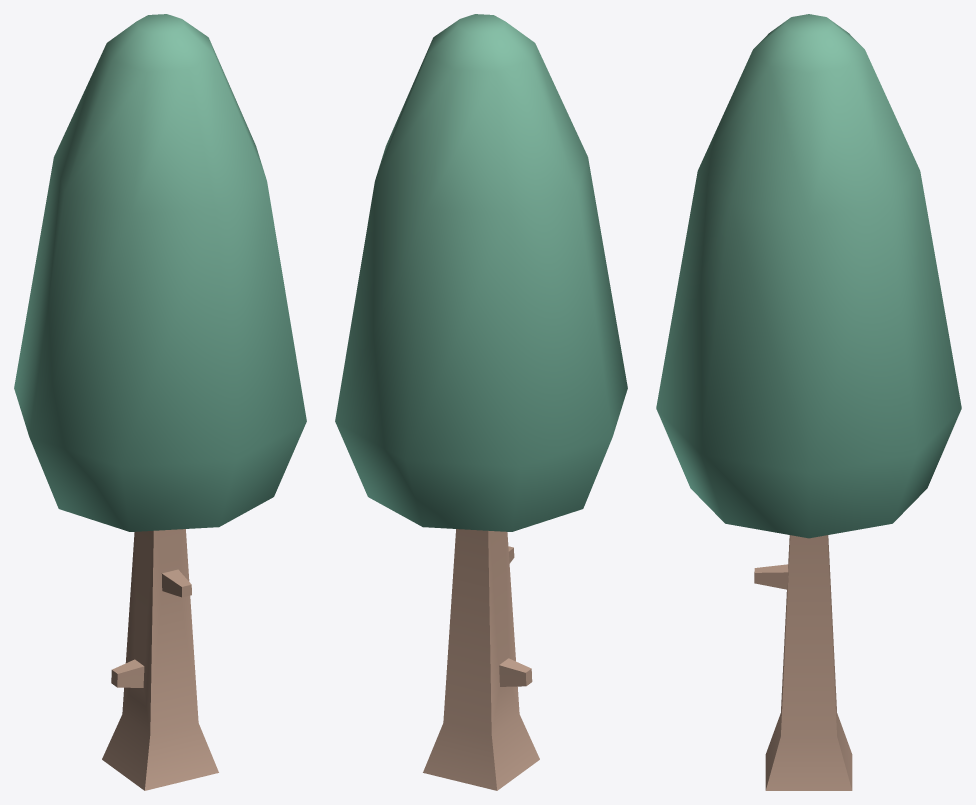
File: tree-high-round.glb
The picture shows the model from 3 angles, left to right: view 1: azimuth 30°, elevation 25°; view 2: azimuth 150°, elevation 25°; view 3: azimuth 270°, elevation 25°; orthographic projection.
Visible parts, largest first — view 1: tree-high-round; view 2: tree-high-round; view 3: tree-high-round.
Part boxes in pixels (x1,y1,x2,y2): tree-high-round: [14, 14, 306, 790]; tree-high-round: [335, 14, 627, 790]; tree-high-round: [656, 14, 961, 790].
Size of the model in its own units: 1.02 by 2.75 by 1.02.
